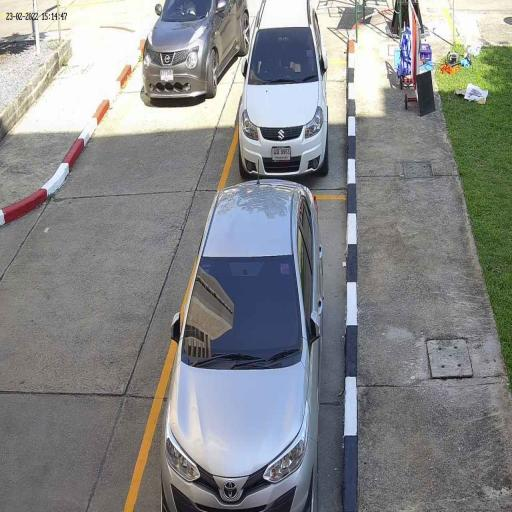car: (160, 178, 326, 512), (236, 0, 330, 179), (142, 0, 250, 99)
